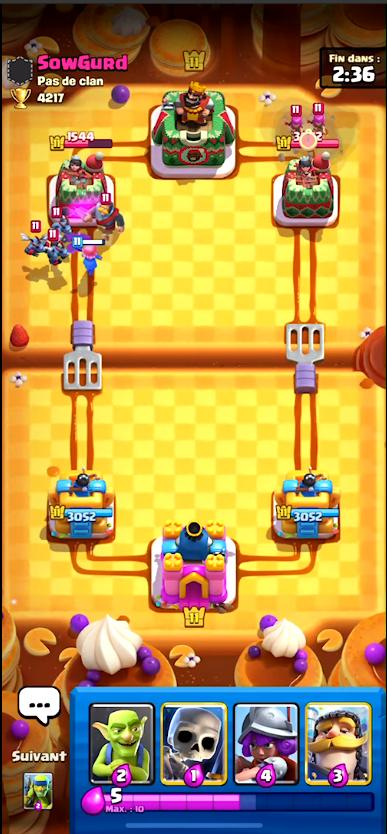archere: (307, 103, 327, 133), (287, 106, 304, 134)
gargouille: (42, 229, 67, 263), (22, 221, 46, 255), (46, 207, 73, 232)
valkyrie: (71, 238, 109, 278)
